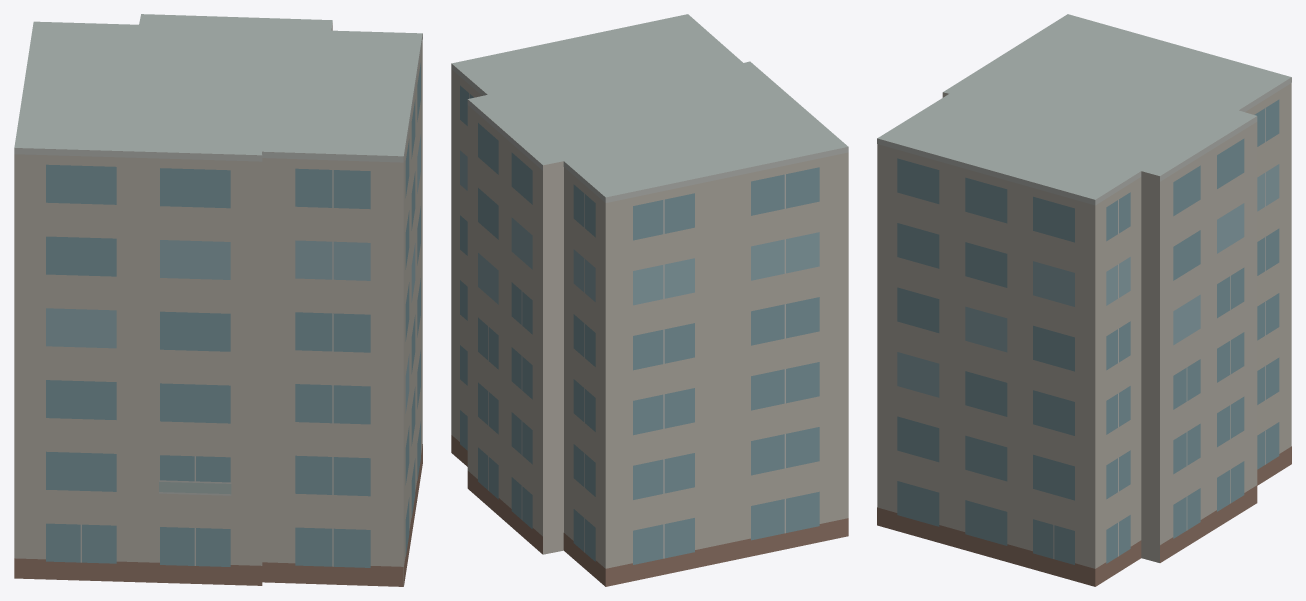
Rendered from survey-upis-32488368.glb.
3 renders of one model, left to right at view 1: azimuth 30°, elevation 25°; view 2: azimuth 150°, elevation 25°; view 3: azimuth 270°, elevation 25°, orthographic. The views are drawn at different scales.
Parts seen in each view (by area): view 1: survey-upis-32488368.tmp; view 2: survey-upis-32488368.tmp; view 3: survey-upis-32488368.tmp.
Part boxes in pixels (box(x1,y1,x2,y2)): survey-upis-32488368.tmp: box(14, 14, 422, 586); survey-upis-32488368.tmp: box(451, 14, 848, 586); survey-upis-32488368.tmp: box(877, 14, 1291, 586).
Size of the model in its own units: 17.21 by 16.7 by 16.22.
